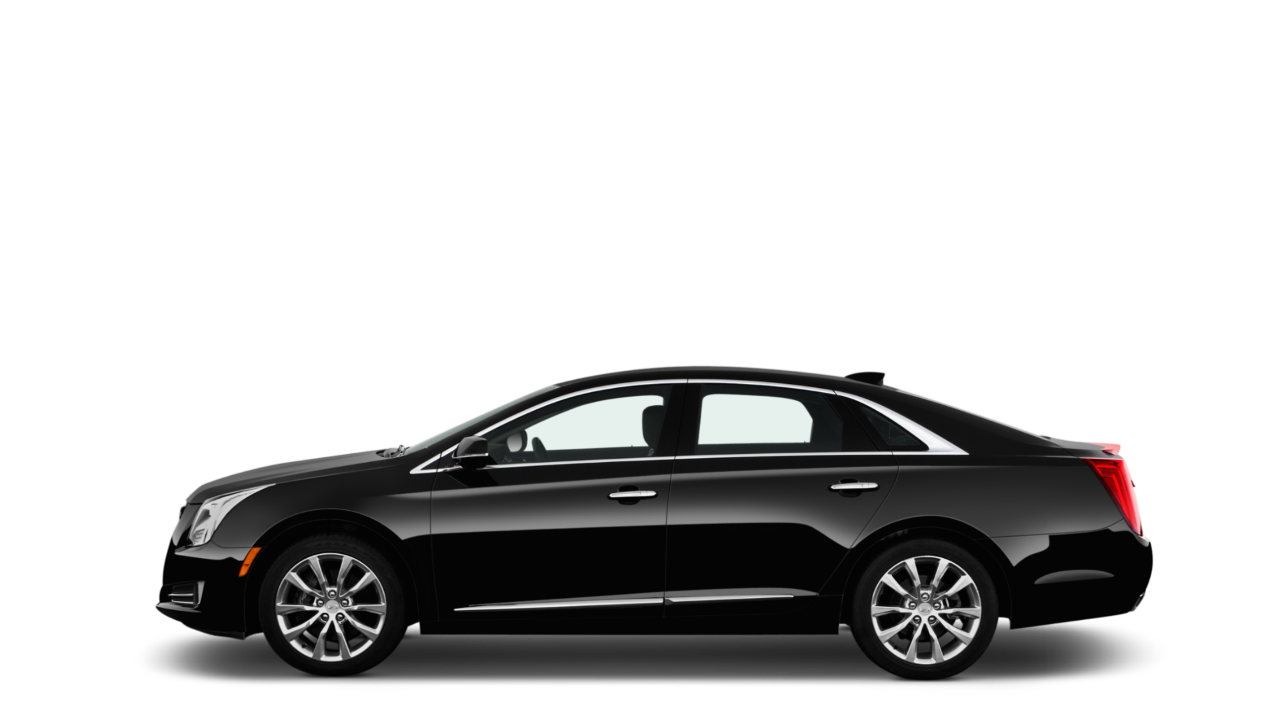car: (132, 352, 1227, 701)
